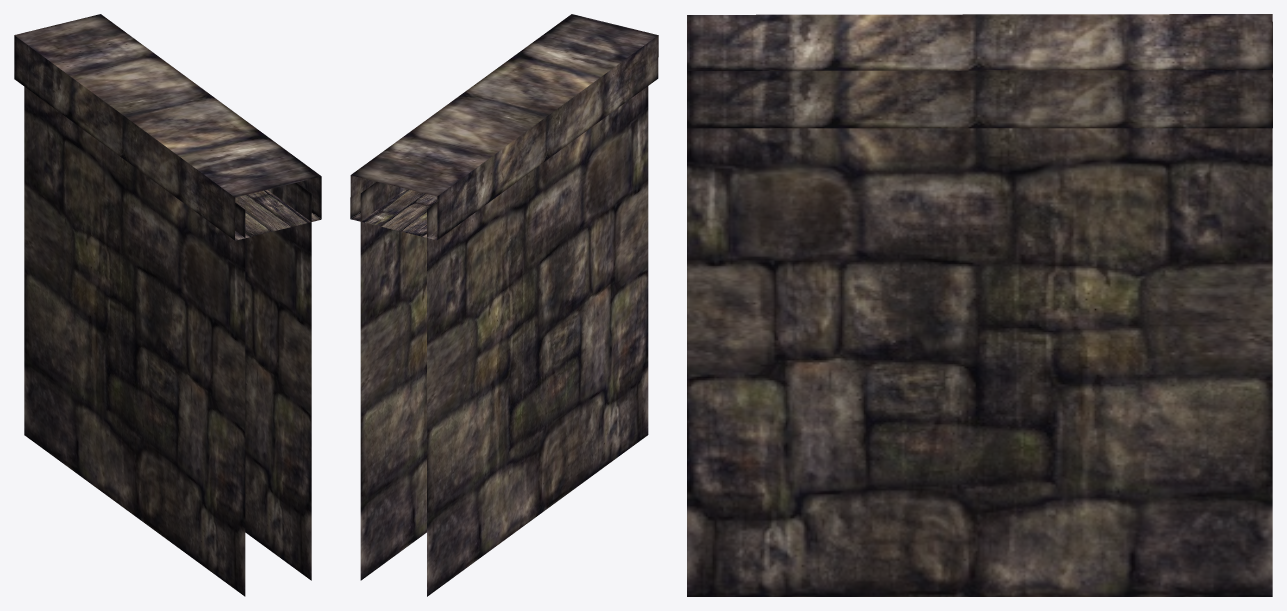
File: wall_mossy_stone.fbx
3 views of the same model, side by side, from view 1: azimuth 30°, elevation 25°; view 2: azimuth 150°, elevation 25°; view 3: azimuth 270°, elevation 25° (orthographic). The views are drawn at different scales.
Parts seen in each view (by area): view 1: lod_high; view 2: lod_high; view 3: lod_high.
Part boxes in pixels (box(x1,y1,x2,y2)): lod_high: box(14, 14, 321, 596); lod_high: box(350, 14, 658, 596); lod_high: box(687, 14, 1272, 596).
Size of the model in its own units: 362 by 1608 by 1600.
Materials: 1 (1 with a texture image).
